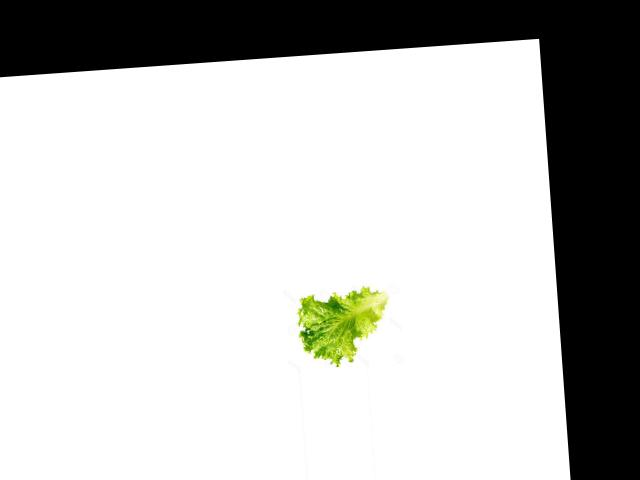lettuce: (295, 289, 394, 368)
